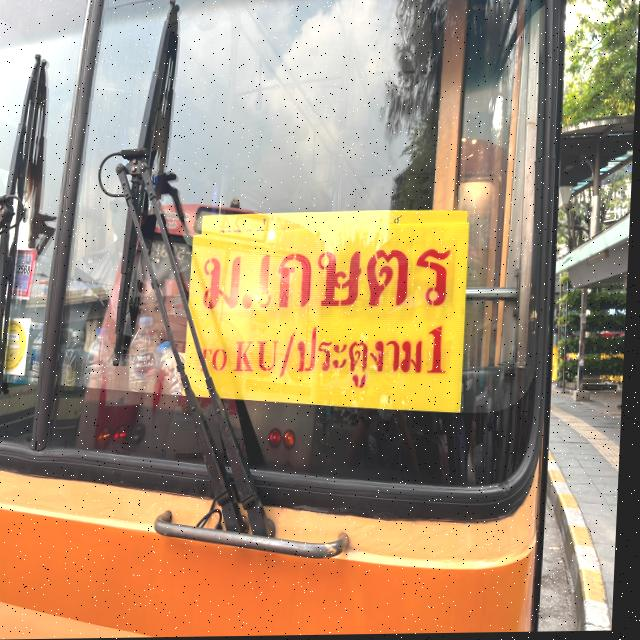BMTA-bus: (0, 0, 573, 640)
Destination-Sign-Extra-Bus-Expressway: (187, 227, 474, 419)
